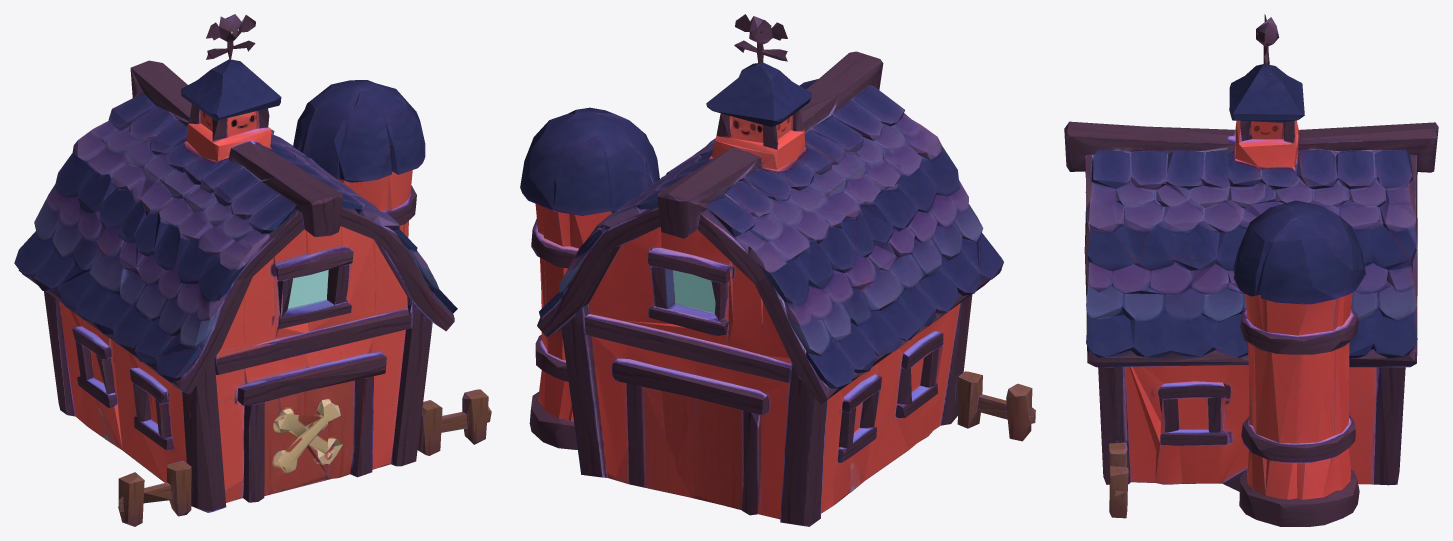
File: barn.glb
The picture shows the model from 3 angles, left to right: view 1: azimuth 30°, elevation 25°; view 2: azimuth 150°, elevation 25°; view 3: azimuth 270°, elevation 25°; orthographic projection. The views are drawn at different scales.
Bounding box in the file's own units: 1.87 × 1.9 × 1.56.
Materials: 1 (1 with a texture image).
